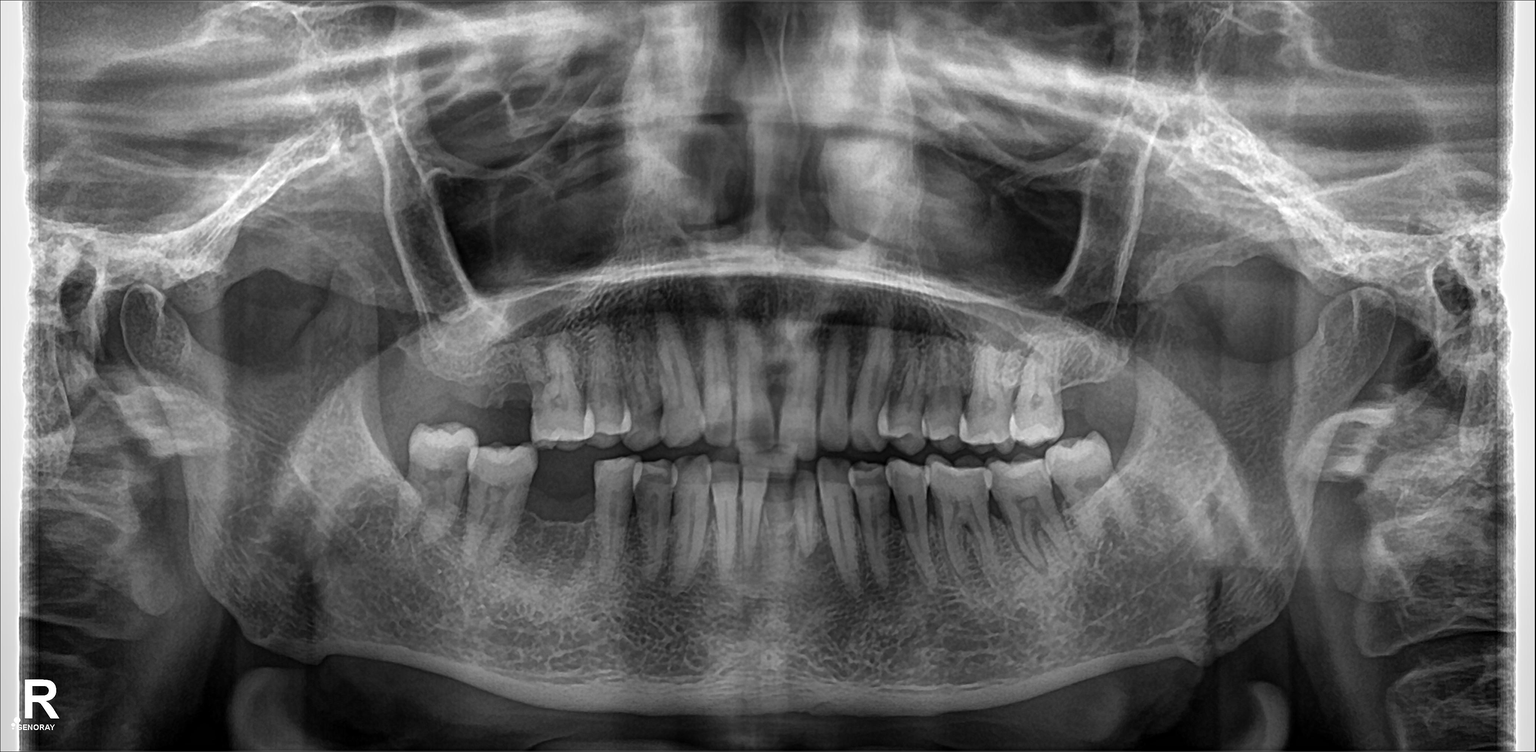Dental Caries: (641, 463, 666, 508)
Missing Tooth: (533, 454, 594, 576), (432, 331, 490, 416), (1097, 329, 1135, 425), (387, 335, 431, 416), (499, 335, 538, 422), (367, 417, 407, 496), (1063, 335, 1097, 420)
